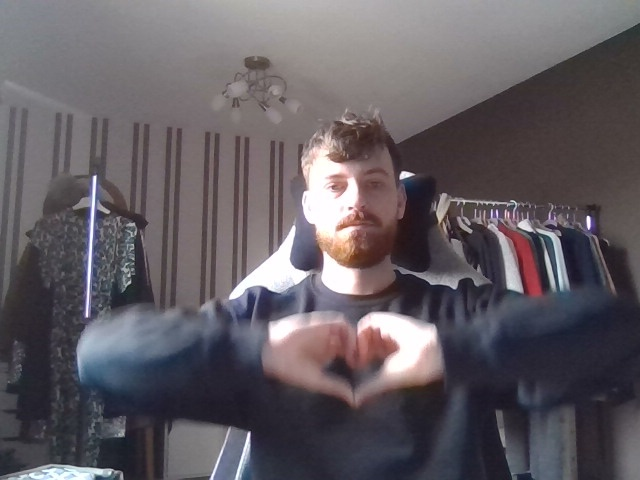Love: (263, 295, 452, 425)
